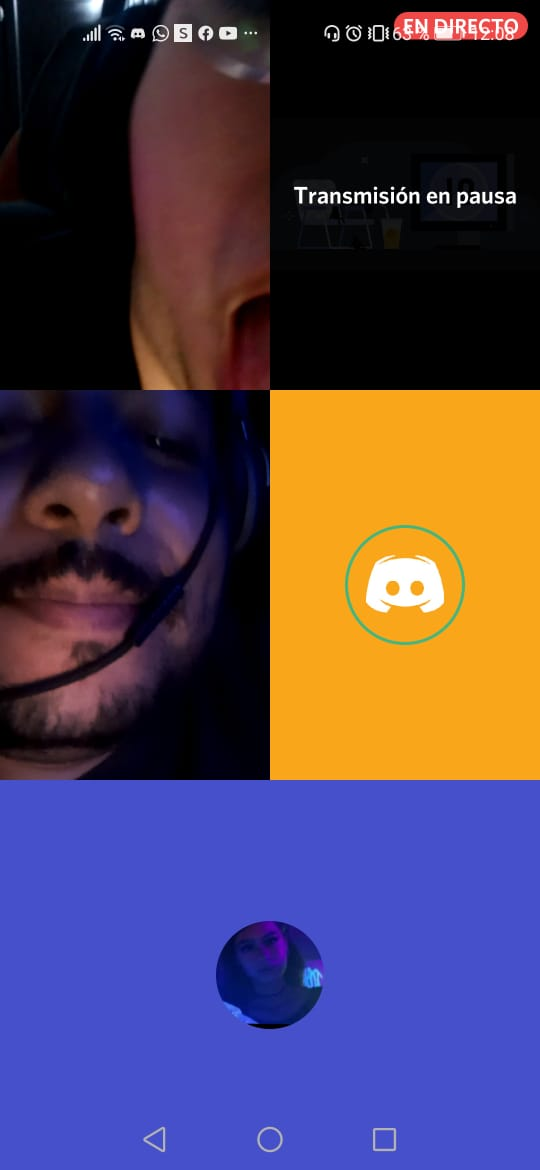Yoshi: (5, 405, 244, 741)
